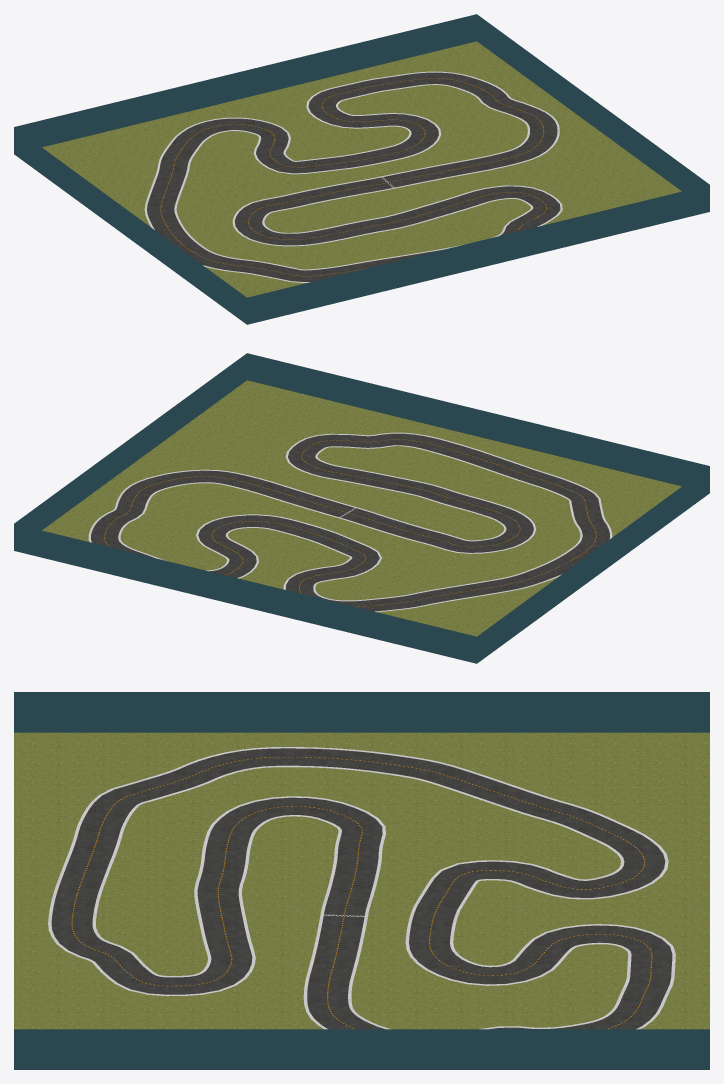
File: 2022_march_pro_ccw.dae
The picture shows the model from 3 angles, top to bottom: view 1: azimuth 30°, elevation 25°; view 2: azimuth 150°, elevation 25°; view 3: azimuth 270°, elevation 25°; orthographic projection. The views are drawn at different scales.
Parts seen in each view (by area): view 1: field, wall, road, il, ol, cl; view 2: field, wall, road, il, ol, cl; view 3: field, wall, road, ol, il, cl.
Part boxes in pixels (box(x1,y1,x2,y2)): field: box(42, 41, 681, 297); wall: box(14, 14, 709, 324); road: box(147, 72, 560, 281); il: box(174, 84, 533, 270); ol: box(144, 71, 562, 282); cl: box(160, 78, 547, 276); field: box(42, 380, 681, 636); wall: box(14, 353, 709, 663); road: box(91, 433, 609, 611); il: box(118, 445, 582, 601); ol: box(88, 432, 612, 612); cl: box(104, 439, 596, 607); field: box(14, 732, 709, 1029); wall: box(14, 692, 709, 1069); road: box(51, 748, 672, 1029); ol: box(48, 747, 675, 1029); il: box(92, 765, 631, 1029); cl: box(71, 757, 652, 1029).
Size of the model in its own units: 17.83 by 15.55 by 1.
Materials: 7 (7 with a texture image).
